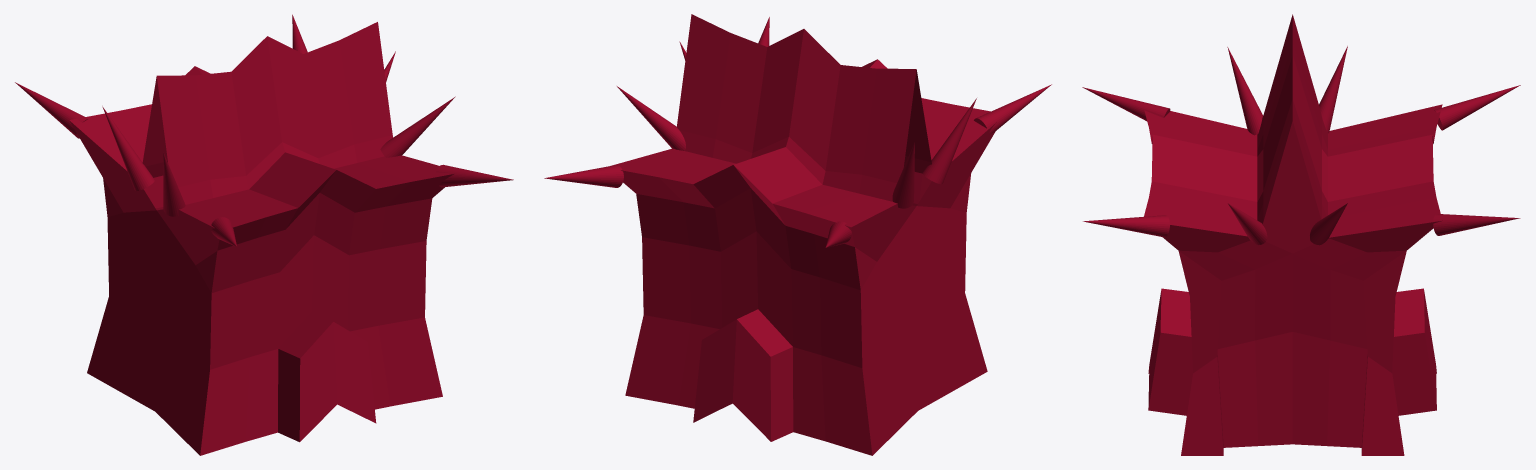
The model's file is Elevator .fbx.
The picture shows the model from 3 angles, left to right: view 1: azimuth 30°, elevation 25°; view 2: azimuth 150°, elevation 25°; view 3: azimuth 270°, elevation 25°; orthographic projection. The views are drawn at different scales.
Parts seen in each view (by area): view 1: Cube.001; view 2: Cube.001; view 3: Cube.001.
Part boxes in pixels (bbox=[...]): Cube.001: bbox=[15, 14, 513, 455]; Cube.001: bbox=[544, 14, 1051, 455]; Cube.001: bbox=[1082, 14, 1520, 455].
Size of the model in its own units: 428 by 484 by 562.
